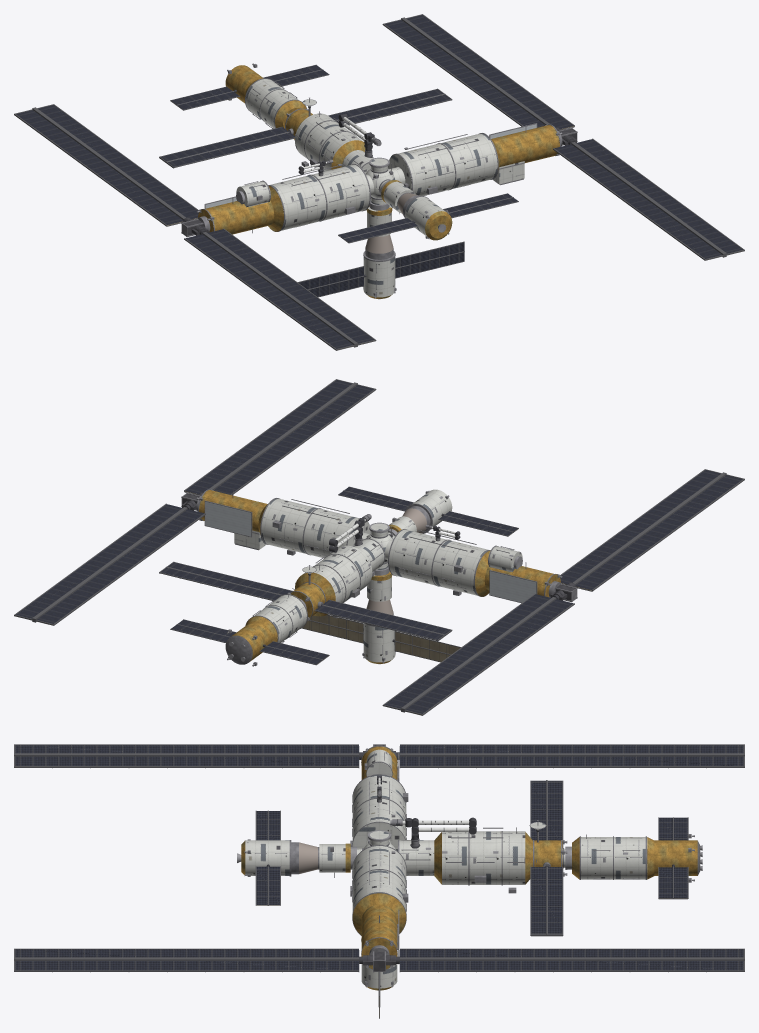
File: tiangong.glb
The picture shows the model from 3 angles, top to bottom: view 1: azimuth 30°, elevation 25°; view 2: azimuth 150°, elevation 25°; view 3: azimuth 270°, elevation 25°; orthographic projection. The views are drawn at different scales.
Parts seen in each view (by area): view 1: WENTIAN_BODY, MENGTIAN_BODY, WENTIAN_ARRAY_FWD, MENGTIAN_ARRAY_FWD, WENTIAN_ARRAY_AFT, MENGTIAN_ARRAY_AFT, TIANZHOU_AFT, SHENZHOU_NADIR, SHENZHOU_FORWARD, TIANHE_LARGE_CYLINDER, TIANHE_ARRAY_STBD, TIANHE_ARRAY_PORT (+9 smaller); view 2: WENTIAN_ARRAY_AFT, MENGTIAN_ARRAY_AFT, WENTIAN_ARRAY_FWD, MENGTIAN_ARRAY_FWD, WENTIAN_BODY, MENGTIAN_BODY, TIANZHOU_AFT, TIANHE_LARGE_CYLINDER, SHENZHOU_NADIR, TIANHE_ARRAY_STBD, TIANHE_ARRAY_PORT, SHENZHOU_FORWARD (+12 smaller); view 3: MENGTIAN_ARRAY_AFT, MENGTIAN_ARRAY_FWD, WENTIAN_ARRAY_AFT, WENTIAN_ARRAY_FWD, MENGTIAN_BODY, TIANZHOU_AFT, TIANHE_LARGE_CYLINDER, WENTIAN_BODY, SHENZHOU_FORWARD, TIANHE_ARRAY_PORT, TIANHE_ARRAY_STBD, TIANHE_SMALL_CYLINDER (+7 smaller).
Boxes of the visible parts, <box> form: WENTIAN_BODY: <box>196,163,370,234</box>; MENGTIAN_BODY: <box>388,124,562,195</box>; WENTIAN_ARRAY_FWD: <box>184,228,376,350</box>; MENGTIAN_ARRAY_FWD: <box>553,138,744,260</box>; WENTIAN_ARRAY_AFT: <box>14,104,199,226</box>; MENGTIAN_ARRAY_AFT: <box>382,14,574,129</box>; TIANZHOU_AFT: <box>225,63,306,128</box>; SHENZHOU_NADIR: <box>362,205,396,299</box>; SHENZHOU_FORWARD: <box>381,180,452,240</box>; TIANHE_LARGE_CYLINDER: <box>294,111,363,171</box>; TIANHE_ARRAY_STBD: <box>159,126,294,168</box>; TIANHE_ARRAY_PORT: <box>328,88,452,125</box>; WENTIAN_ARRAY_AFT: <box>382,593,574,715</box>; MENGTIAN_ARRAY_AFT: <box>14,503,205,625</box>; WENTIAN_ARRAY_FWD: <box>559,469,744,591</box>; MENGTIAN_ARRAY_FWD: <box>184,379,376,495</box>; WENTIAN_BODY: <box>388,529,562,597</box>; MENGTIAN_BODY: <box>196,489,370,558</box>; TIANZHOU_AFT: <box>225,593,307,666</box>; TIANHE_LARGE_CYLINDER: <box>295,545,372,618</box>; SHENZHOU_NADIR: <box>362,570,396,664</box>; TIANHE_ARRAY_STBD: <box>314,599,452,641</box>; TIANHE_ARRAY_PORT: <box>159,561,292,600</box>; SHENZHOU_FORWARD: <box>389,489,452,533</box>; MENGTIAN_ARRAY_AFT: <box>396,948,744,972</box>; MENGTIAN_ARRAY_FWD: <box>14,948,362,972</box>; WENTIAN_ARRAY_AFT: <box>396,744,744,768</box>; WENTIAN_ARRAY_FWD: <box>14,744,362,768</box>; MENGTIAN_BODY: <box>350,845,408,969</box>; TIANZHOU_AFT: <box>567,834,702,882</box>; TIANHE_LARGE_CYLINDER: <box>442,827,525,893</box>; WENTIAN_BODY: <box>350,745,408,850</box>; SHENZHOU_FORWARD: <box>237,839,355,877</box>; TIANHE_ARRAY_PORT: <box>530,865,563,936</box>; TIANHE_ARRAY_STBD: <box>530,780,563,848</box>; TIANHE_SMALL_CYLINDER: <box>398,832,441,884</box>.
Bounding box in the file's own units: 41.9 × 14.85 × 57.2.
12 materials, 9 textured.
